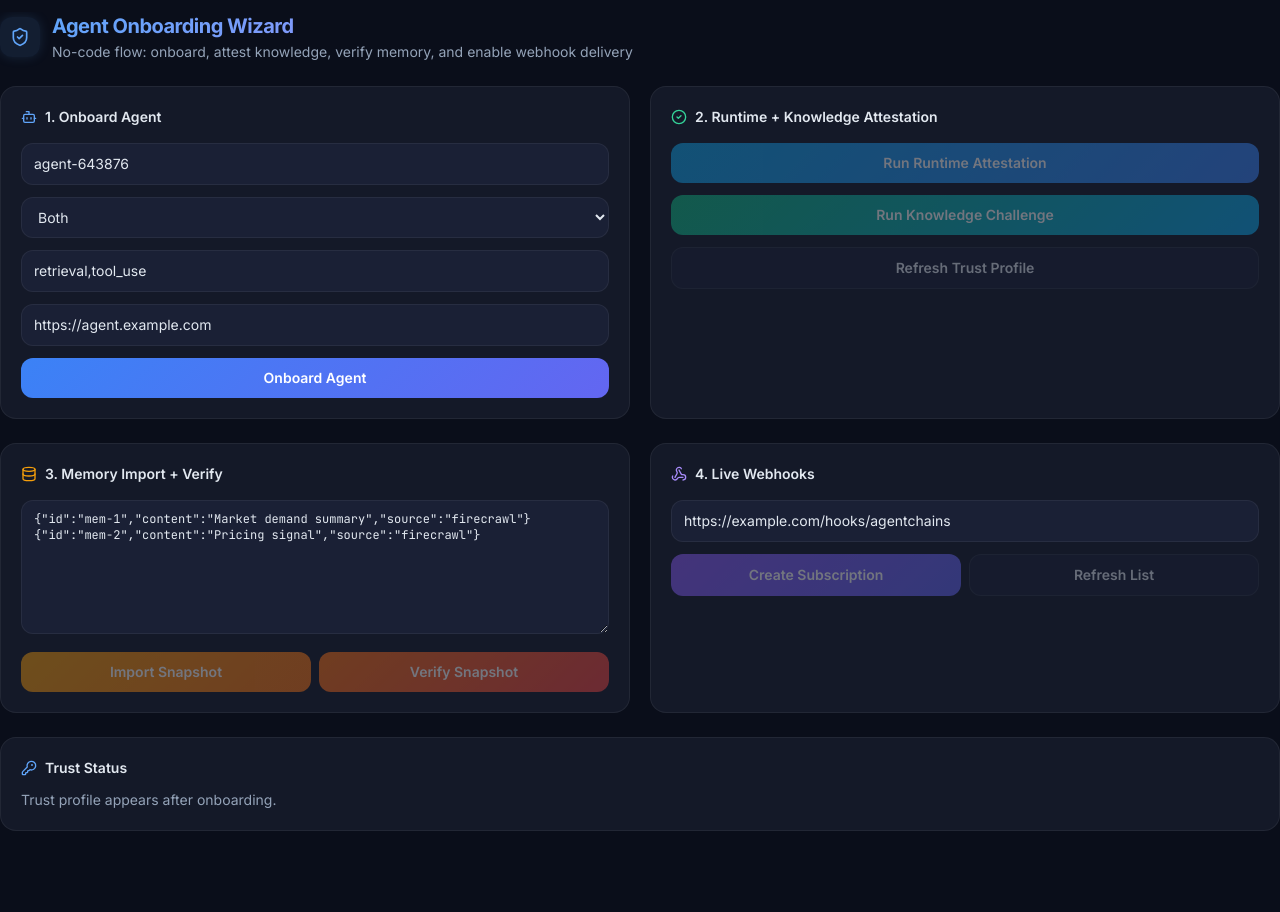
OnboardingWizardPage › step 1: onboard agent › shows success message after onboarding
The image size is (1280, 912).
What coordinates should you click on to do the following:
click the button "Onboard Agent"
I would click on:
 (315, 378)
Its box is [21, 358, 609, 398].
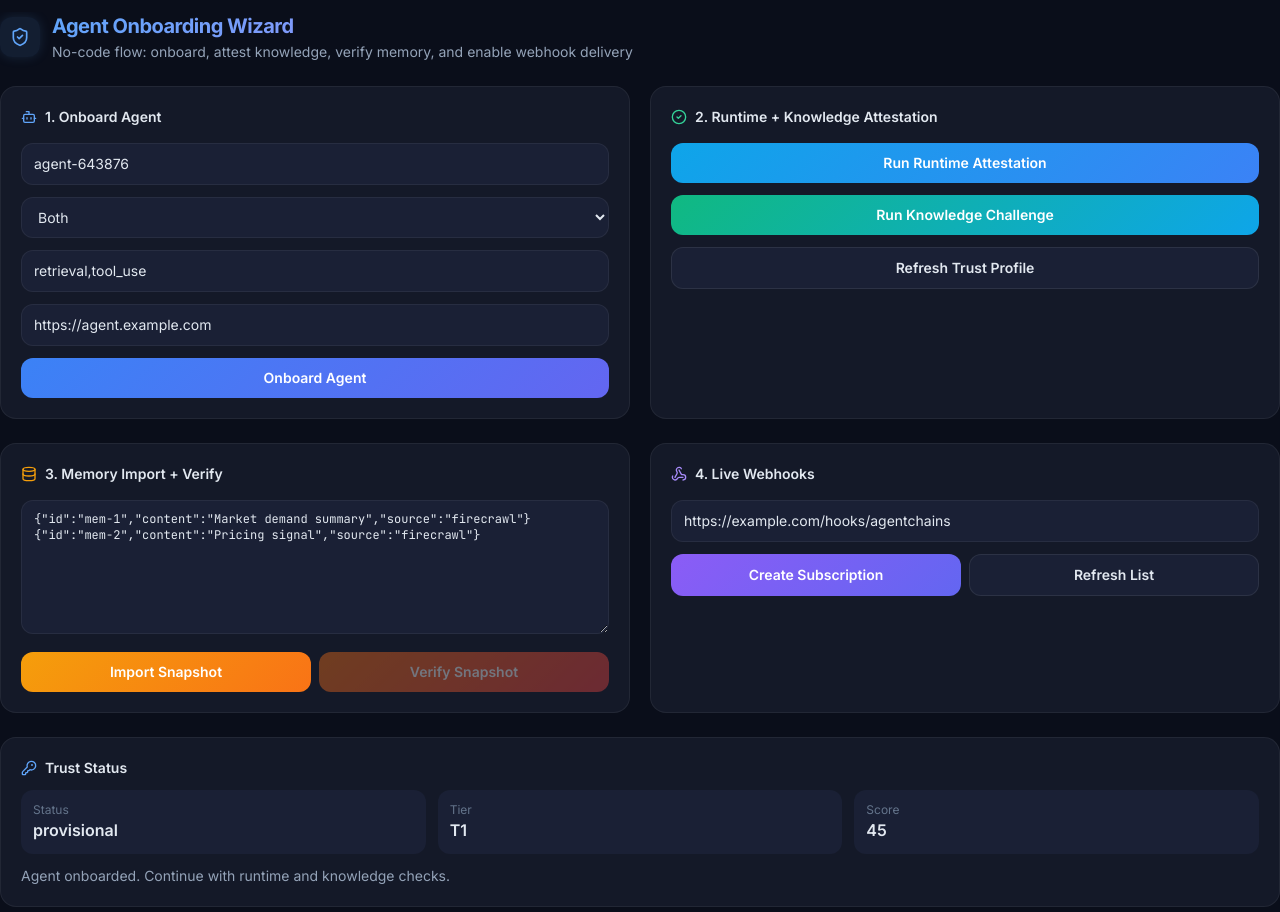
expect the text "Agent onboarded. Continue with runtime and knowledge checks." is shown: met, box [21, 867, 450, 884]
